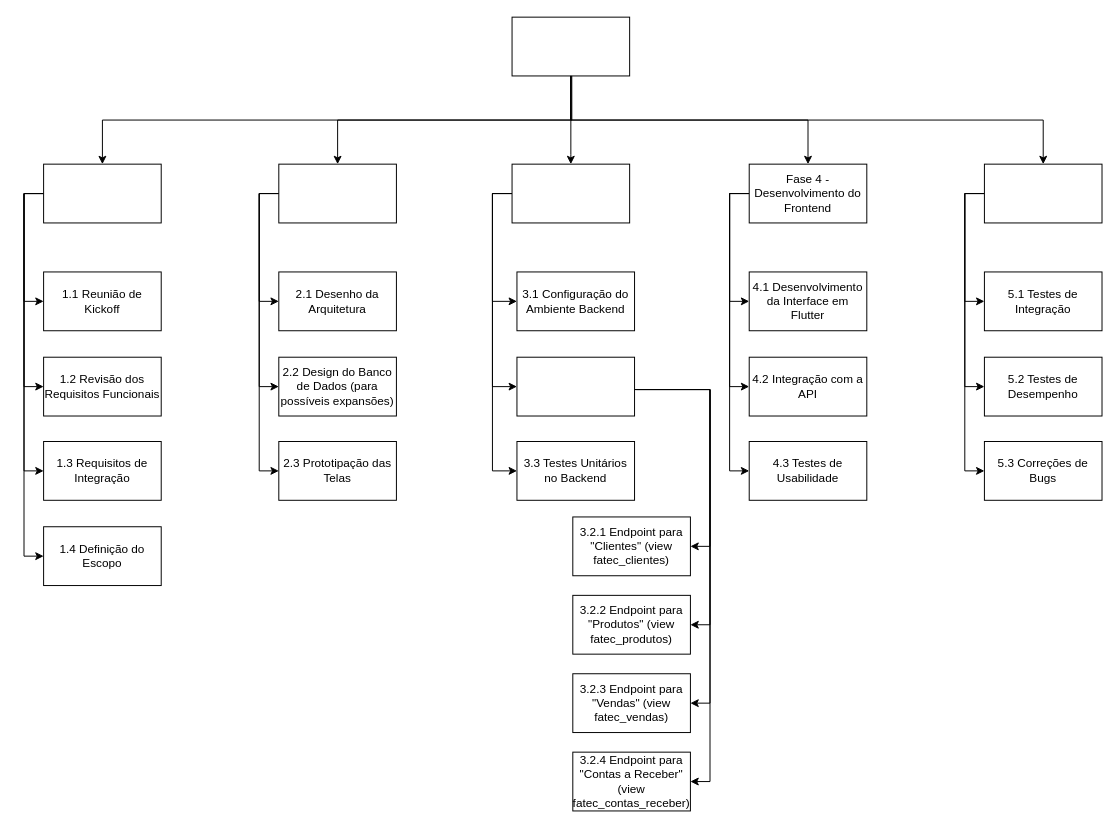
The diagram is 1119 pixels wide and 828 high, and some of its shapes have lost their labels. The shapes that lost their labels are listed below. From the top down, each one's centre as x and y in pixels, then its label:
At point 570,46: "Projeto FATEC - Sistema de Vendas e Compras".
At point 102,193: "Fase 1 - Planejamento e Requisitos".
At point 337,193: "Fase 2 - Design e Arquitetura".
At point 570,193: "Fase 3 - Desenvolvimento do Backend".
At point 1042,193: "Fase 5 - Testes e Validação".
At point 575,386: "3.2 Desenvolvimento da API".
